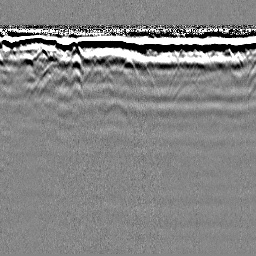cavity: (120, 56, 137, 75)
